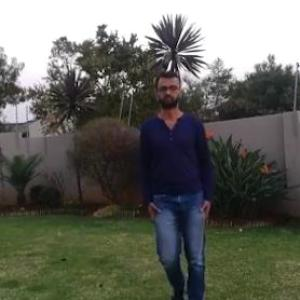follow: (149, 88, 210, 298)
